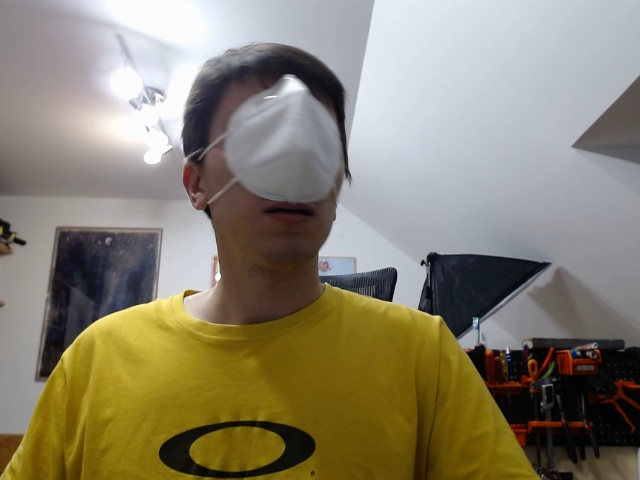WrongMask: (180, 46, 351, 287)
